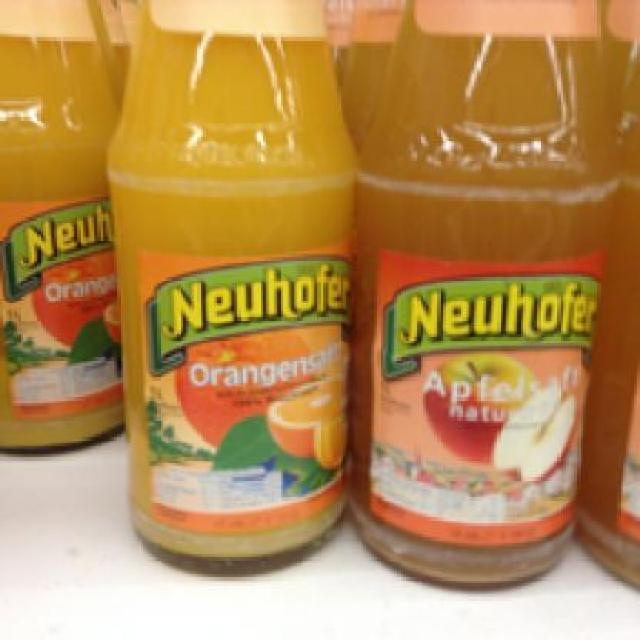Juice: (357, 0, 620, 580), (104, 0, 358, 572), (0, 0, 118, 455)
